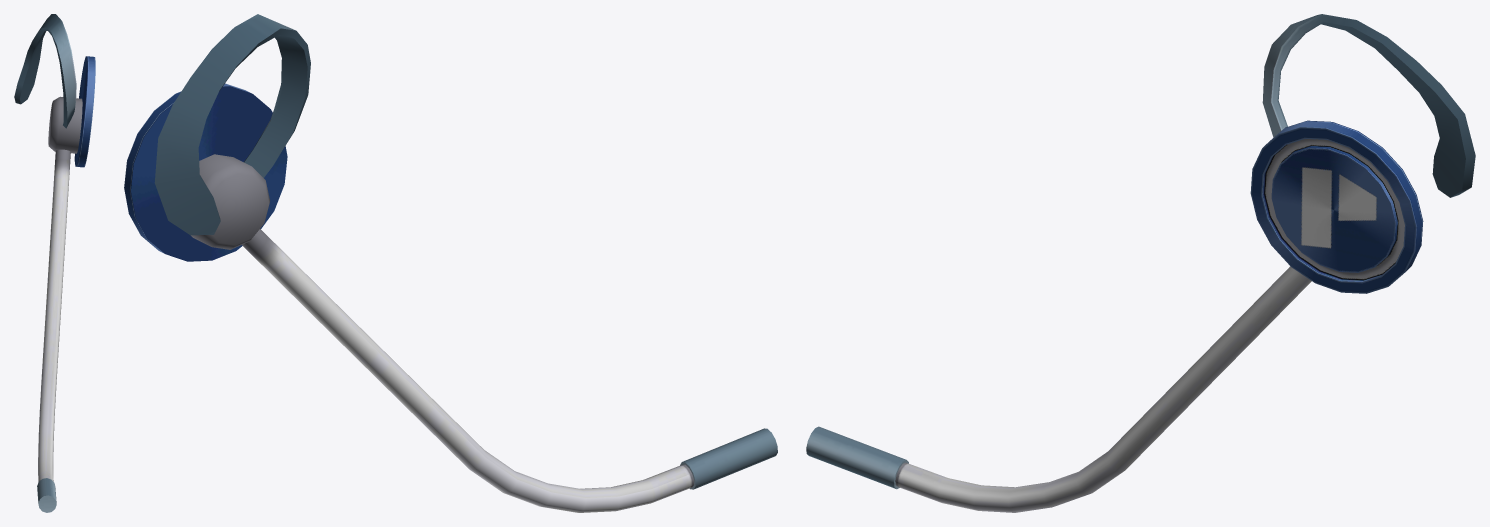
File: EntrainingIntercomIbara.fbx
The picture shows the model from 3 angles, left to right: view 1: azimuth 30°, elevation 25°; view 2: azimuth 150°, elevation 25°; view 3: azimuth 270°, elevation 25°; orthographic projection. The views are drawn at different scales.
Visible parts, largest first — view 1: EntrainingIntercomIbara; view 2: EntrainingIntercomIbara; view 3: EntrainingIntercomIbara.
Boxes of the visible parts, x1,y1,x2,y2 form: EntrainingIntercomIbara: [14, 14, 95, 512]; EntrainingIntercomIbara: [124, 14, 777, 512]; EntrainingIntercomIbara: [806, 14, 1475, 512].
Size of the model in its own units: 0.0514 by 0.0763 by 0.078.
1 material, 1 textured.
